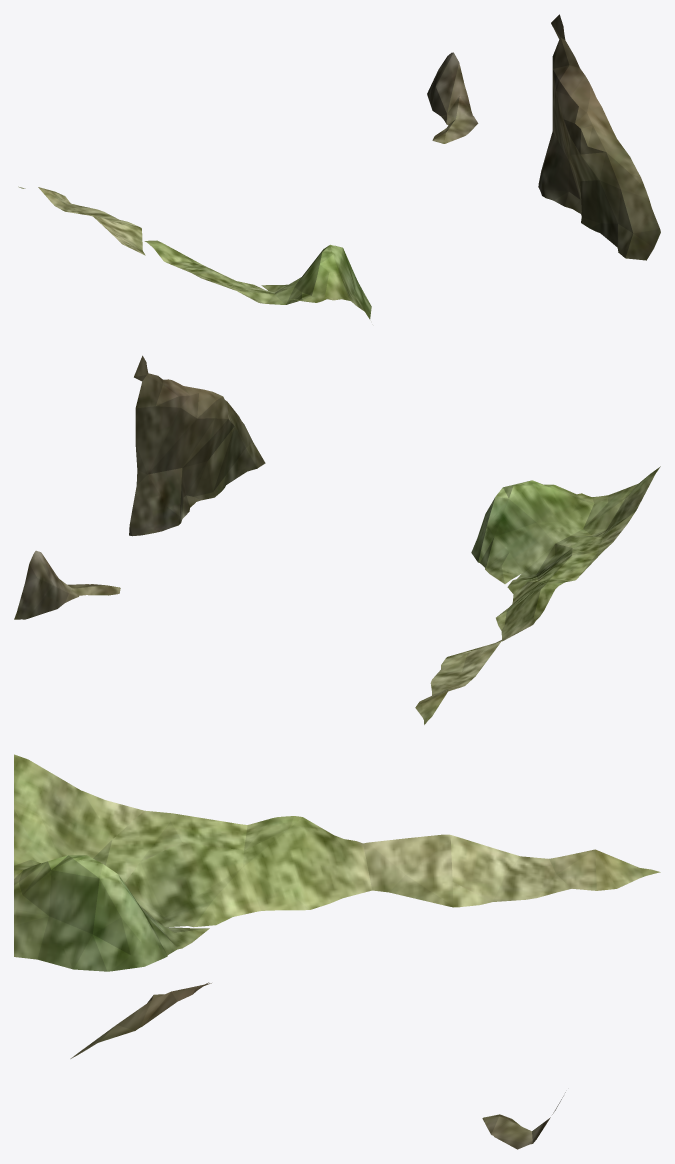
3 renders of one model, top to bottom at view 1: azimuth 30°, elevation 25°; view 2: azimuth 150°, elevation 25°; view 3: azimuth 270°, elevation 25°, orthographic. The views are drawn at different scales.
Size of the model in its own units: 2.95 by 1.15 by 2.91.
1 material, 1 textured.
